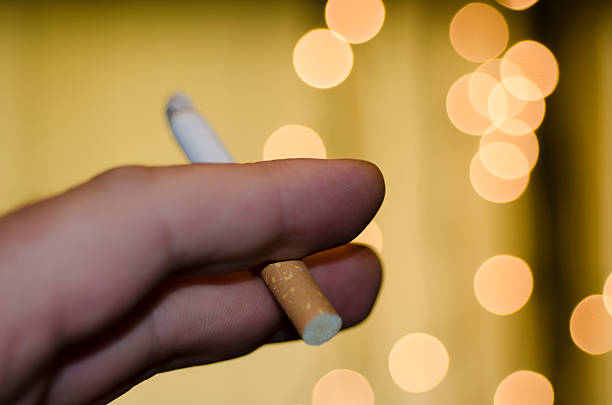cigarette: (165, 93, 342, 347)
